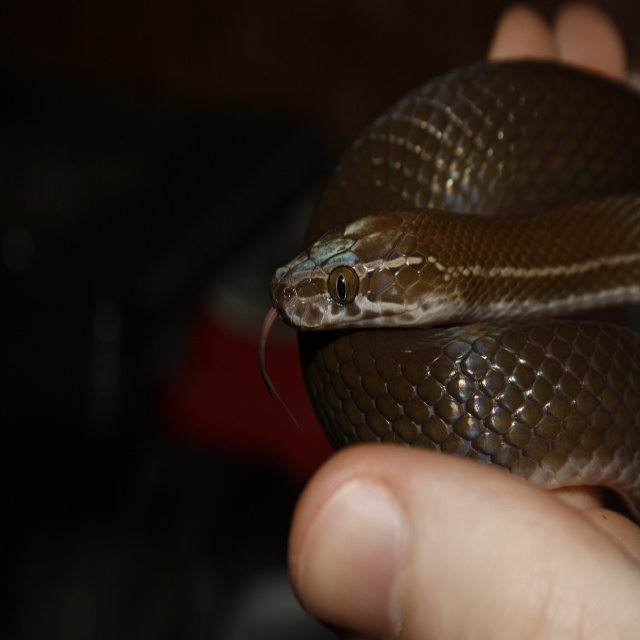Snake: (255, 47, 640, 516)
